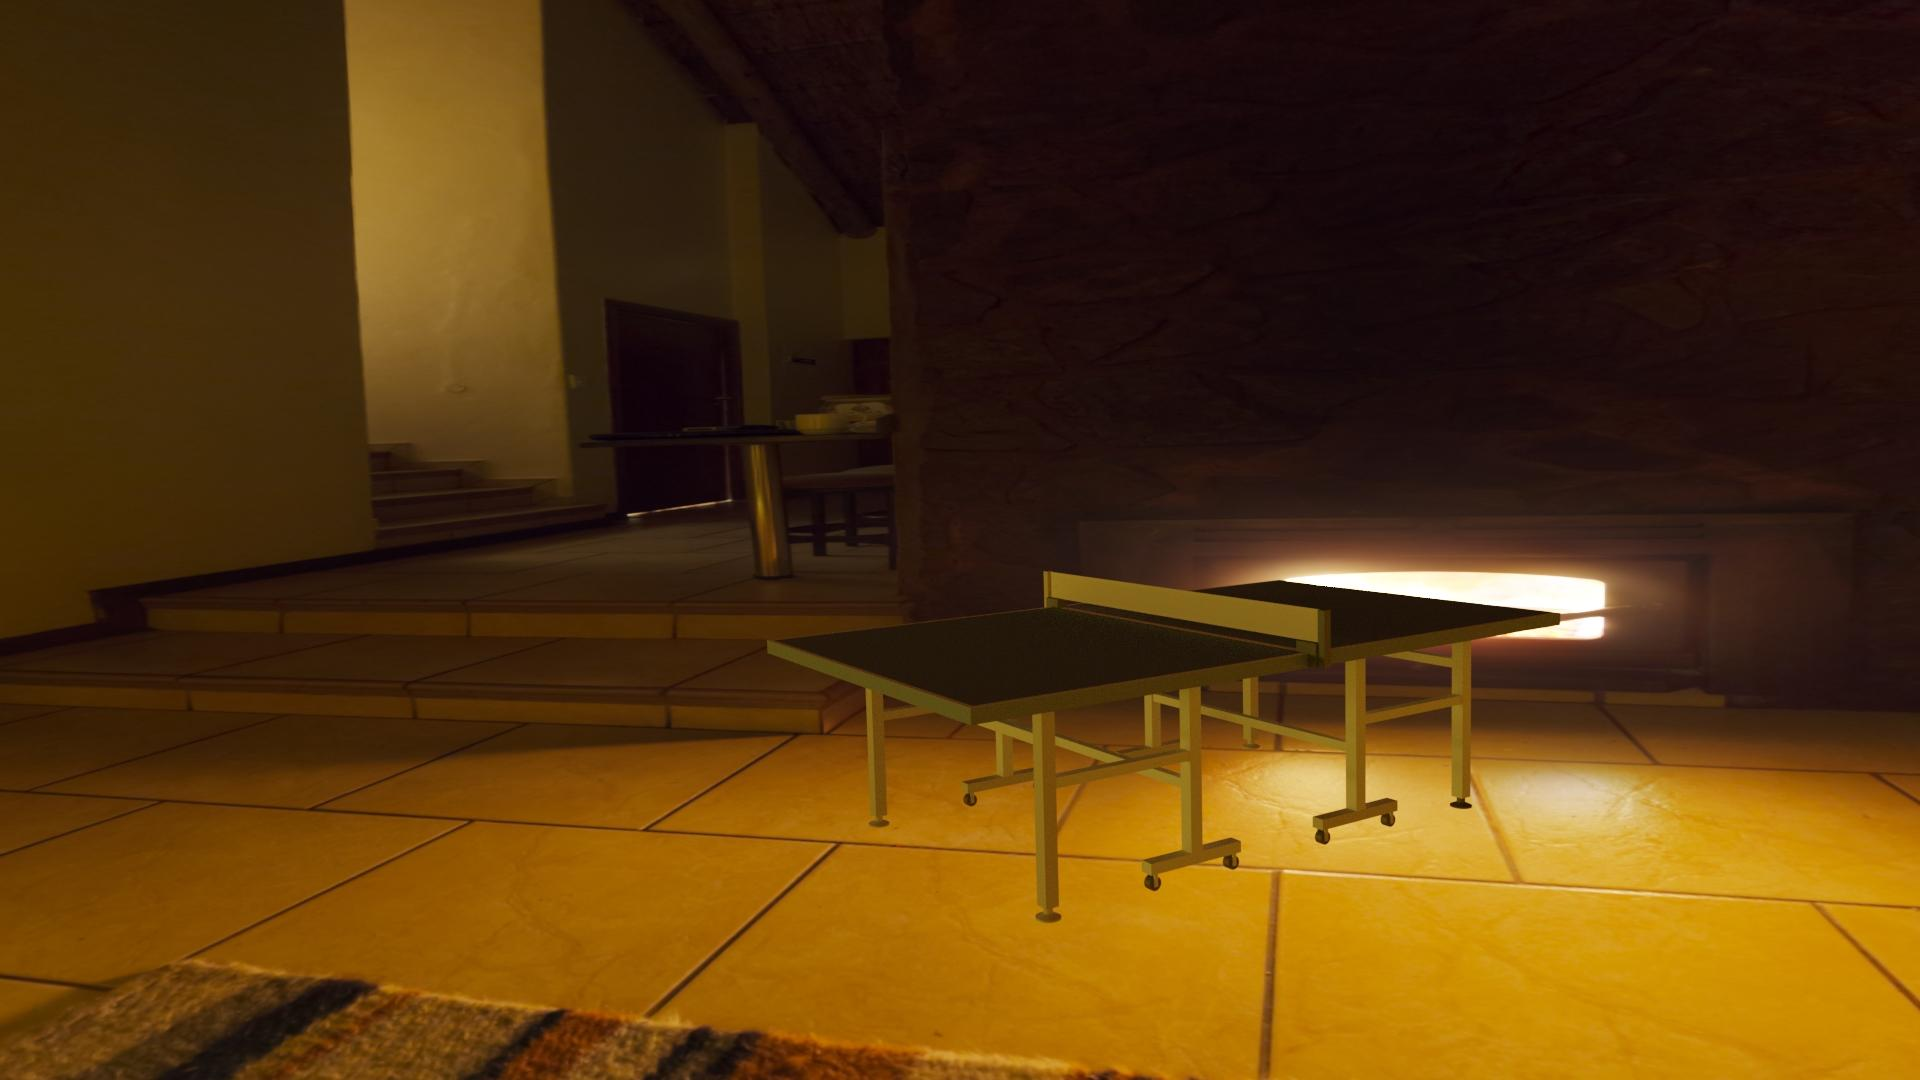table: (774, 580, 1553, 705)
